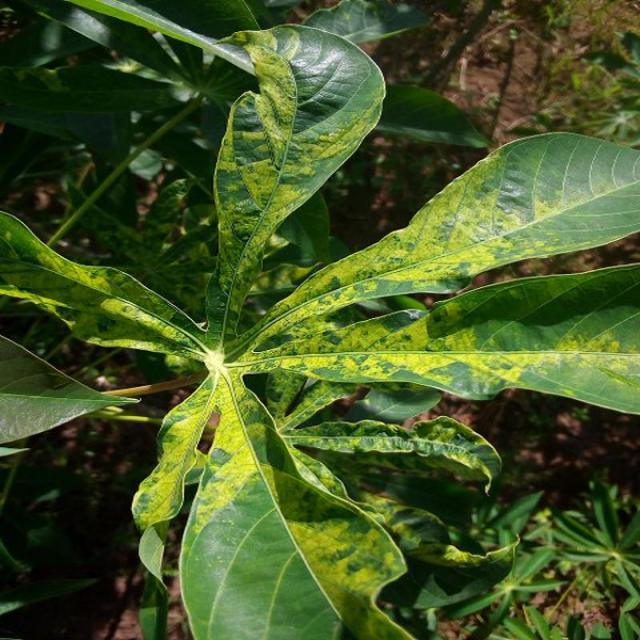cassava leaf: (1, 14, 638, 637), (206, 21, 386, 344)
